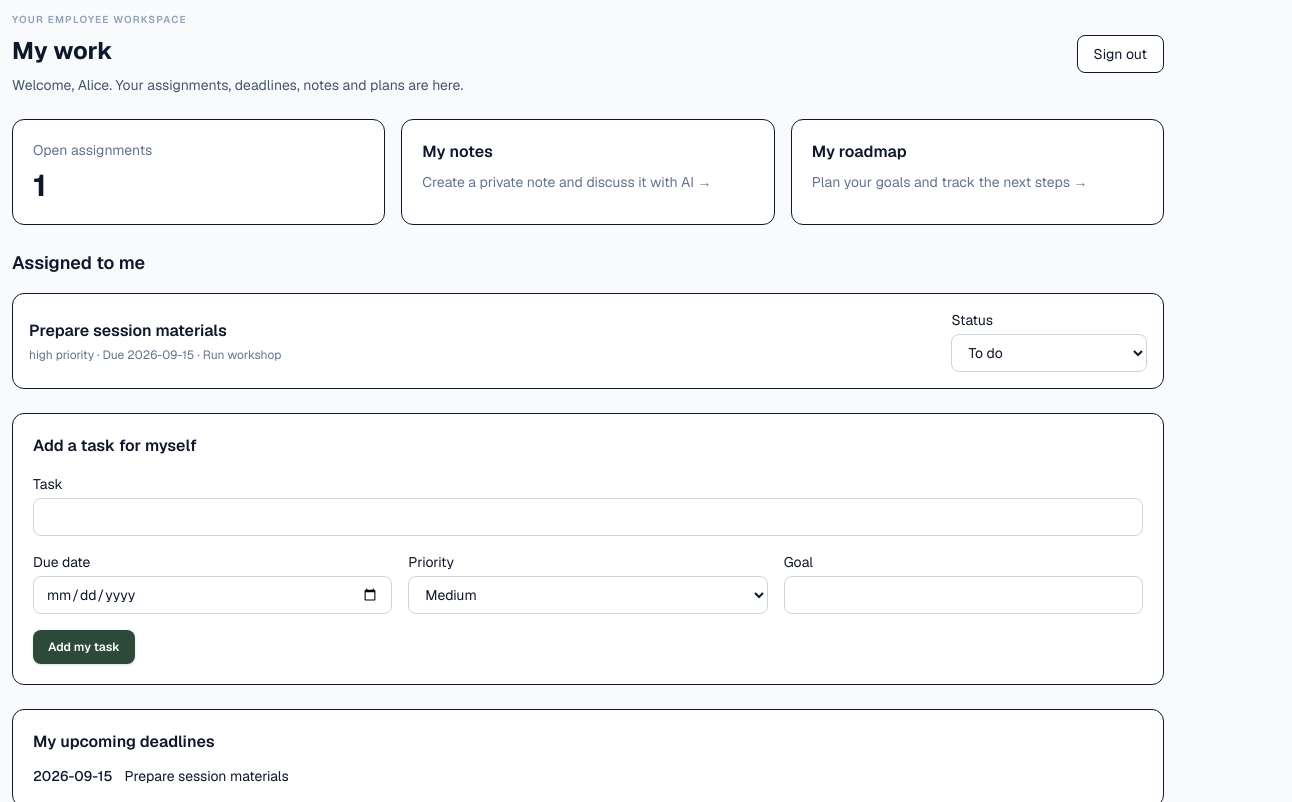
saves an assignment status through the personal API and displays server results
Select "Done" in the dropdown named "Status for Prepare session materials" at (1049, 353), box [951,334,1147,372]
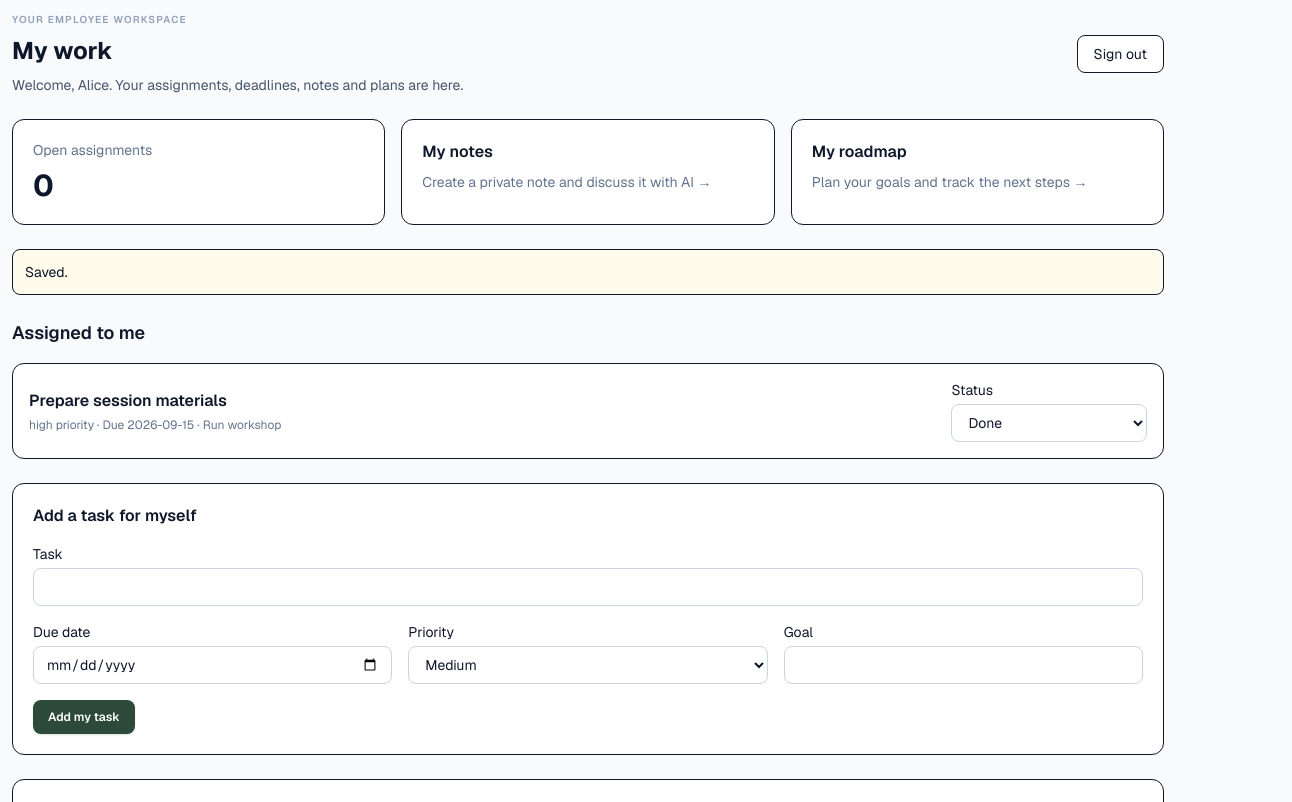
Expected: the message reads "Saved.", [25,263,68,281]
